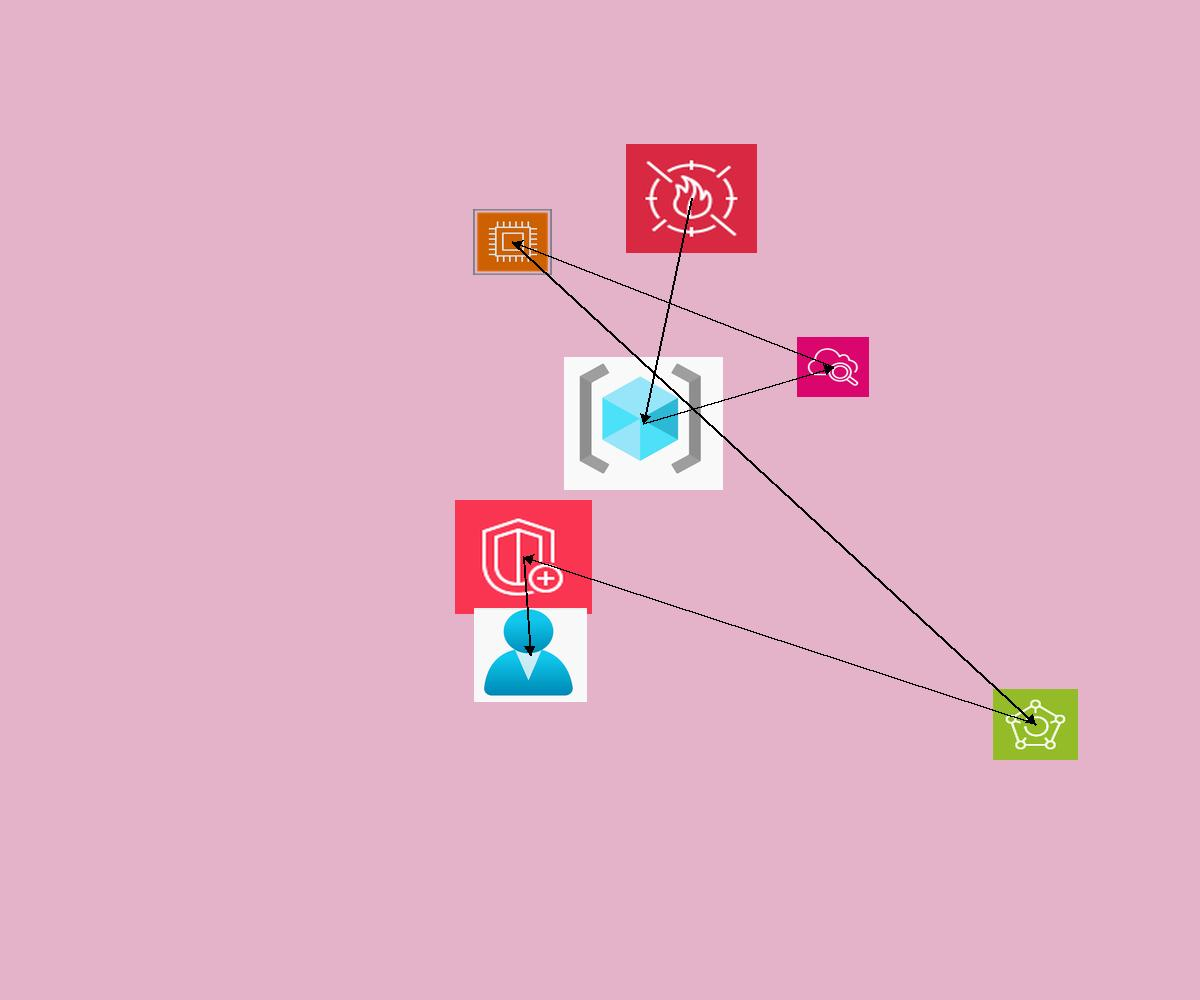AWS-Backup: (993, 689, 1078, 760)
AWS-Category_Compute: (473, 209, 552, 275)
AWS-CloudWatch: (797, 337, 869, 397)
AWS-Shield: (455, 500, 592, 614)
AWS-WAF: (626, 144, 757, 253)
Azure_resource_group: (564, 357, 723, 490)
Azure_users: (474, 608, 587, 702)
